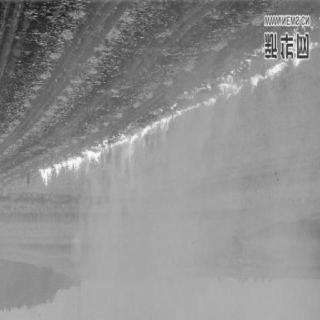Fire: (53, 142, 103, 182)
